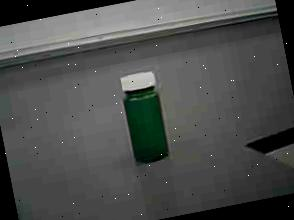Bottle C: (107, 60, 188, 174)
